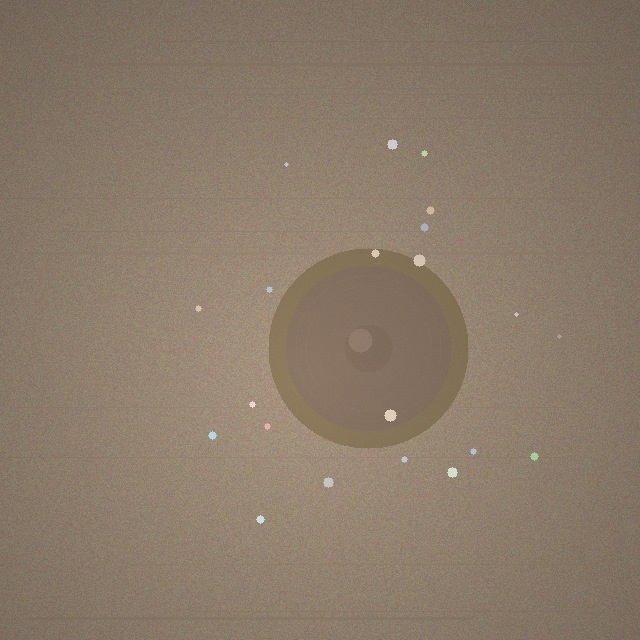overburn: (268, 248, 468, 448)
